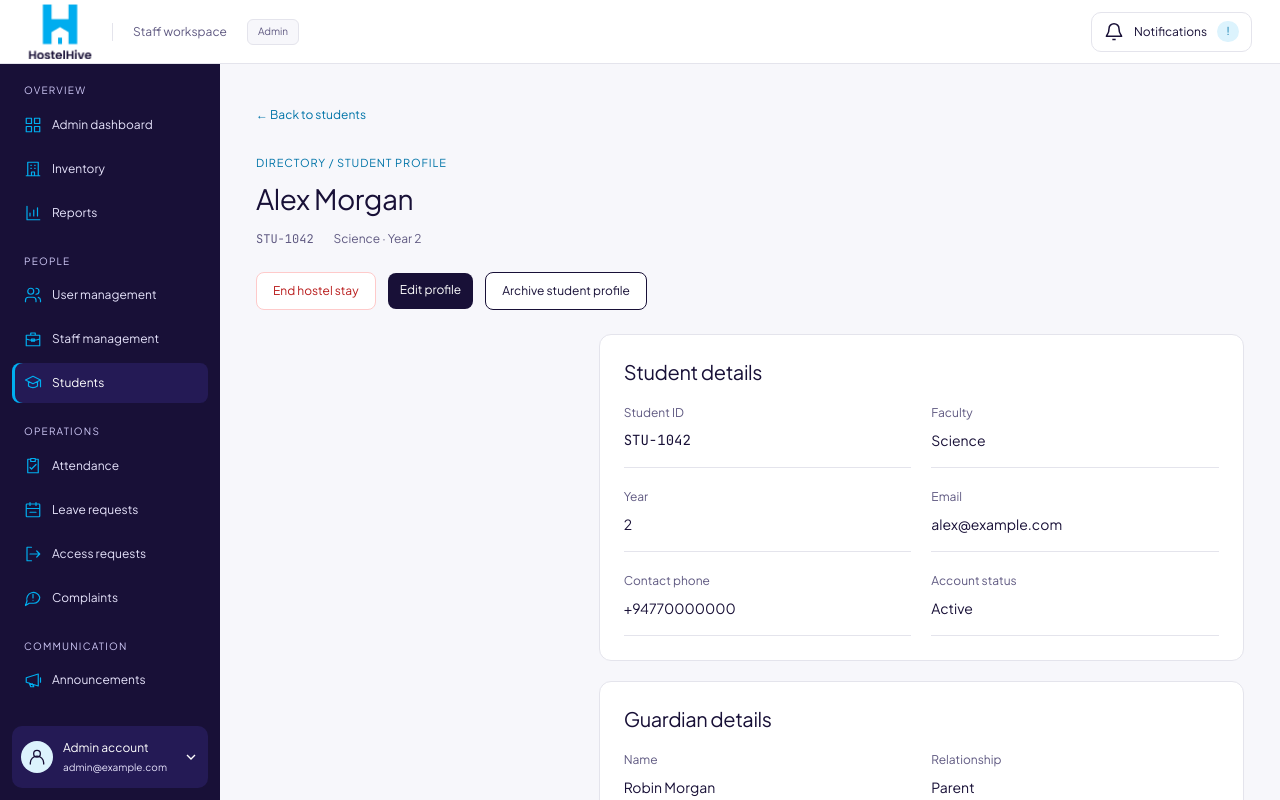
Test case: blocks confirmation until accommodation has been checked successfully
Click the button "End hostel stay".
click(316, 291)  # box x1=256 y1=272 x2=376 y2=310
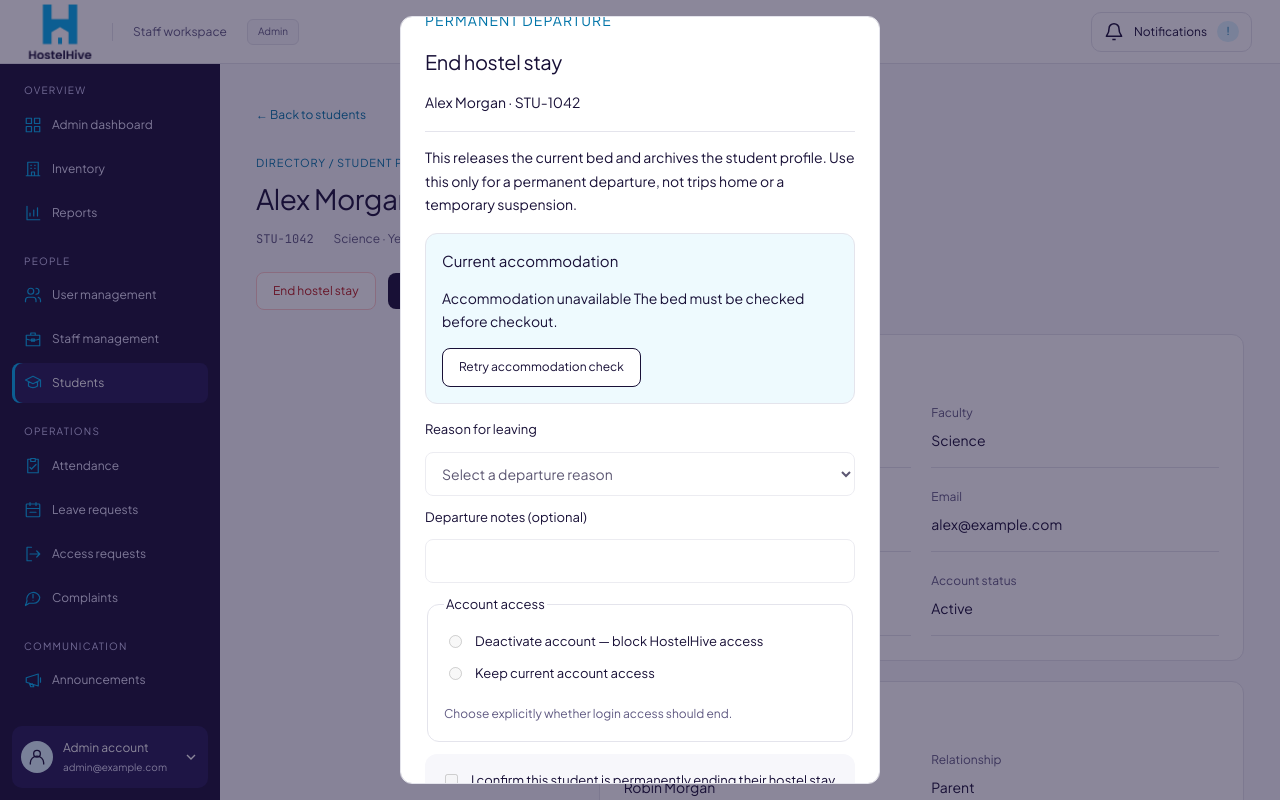
Check: the message shows "bed must be checked", box x1=442 y1=289 x2=804 y2=330
Click the button "Retry accommodation check".
click(541, 368)  # box x1=442 y1=348 x2=641 y2=387
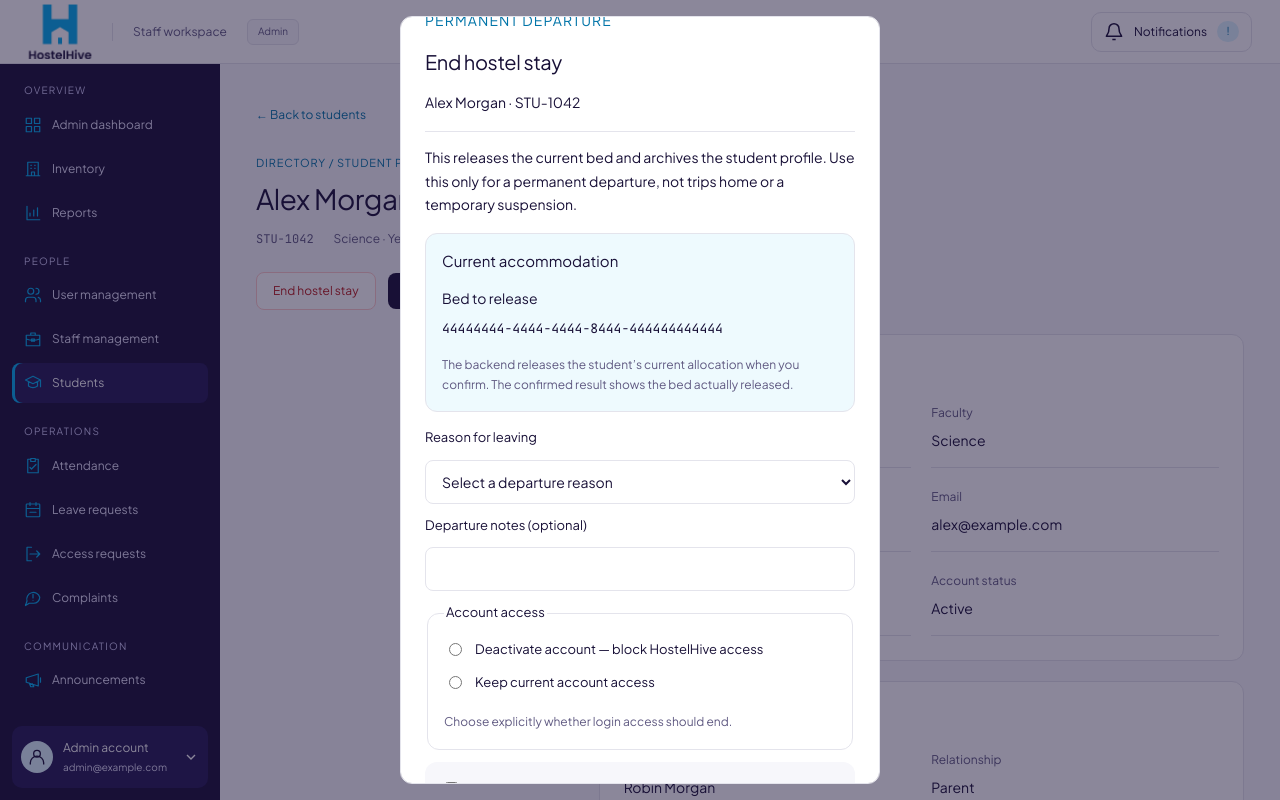
Check: the text "44444444-4444-4444-8444-444444444444" is shown, box x1=442 y1=320 x2=723 y2=338
